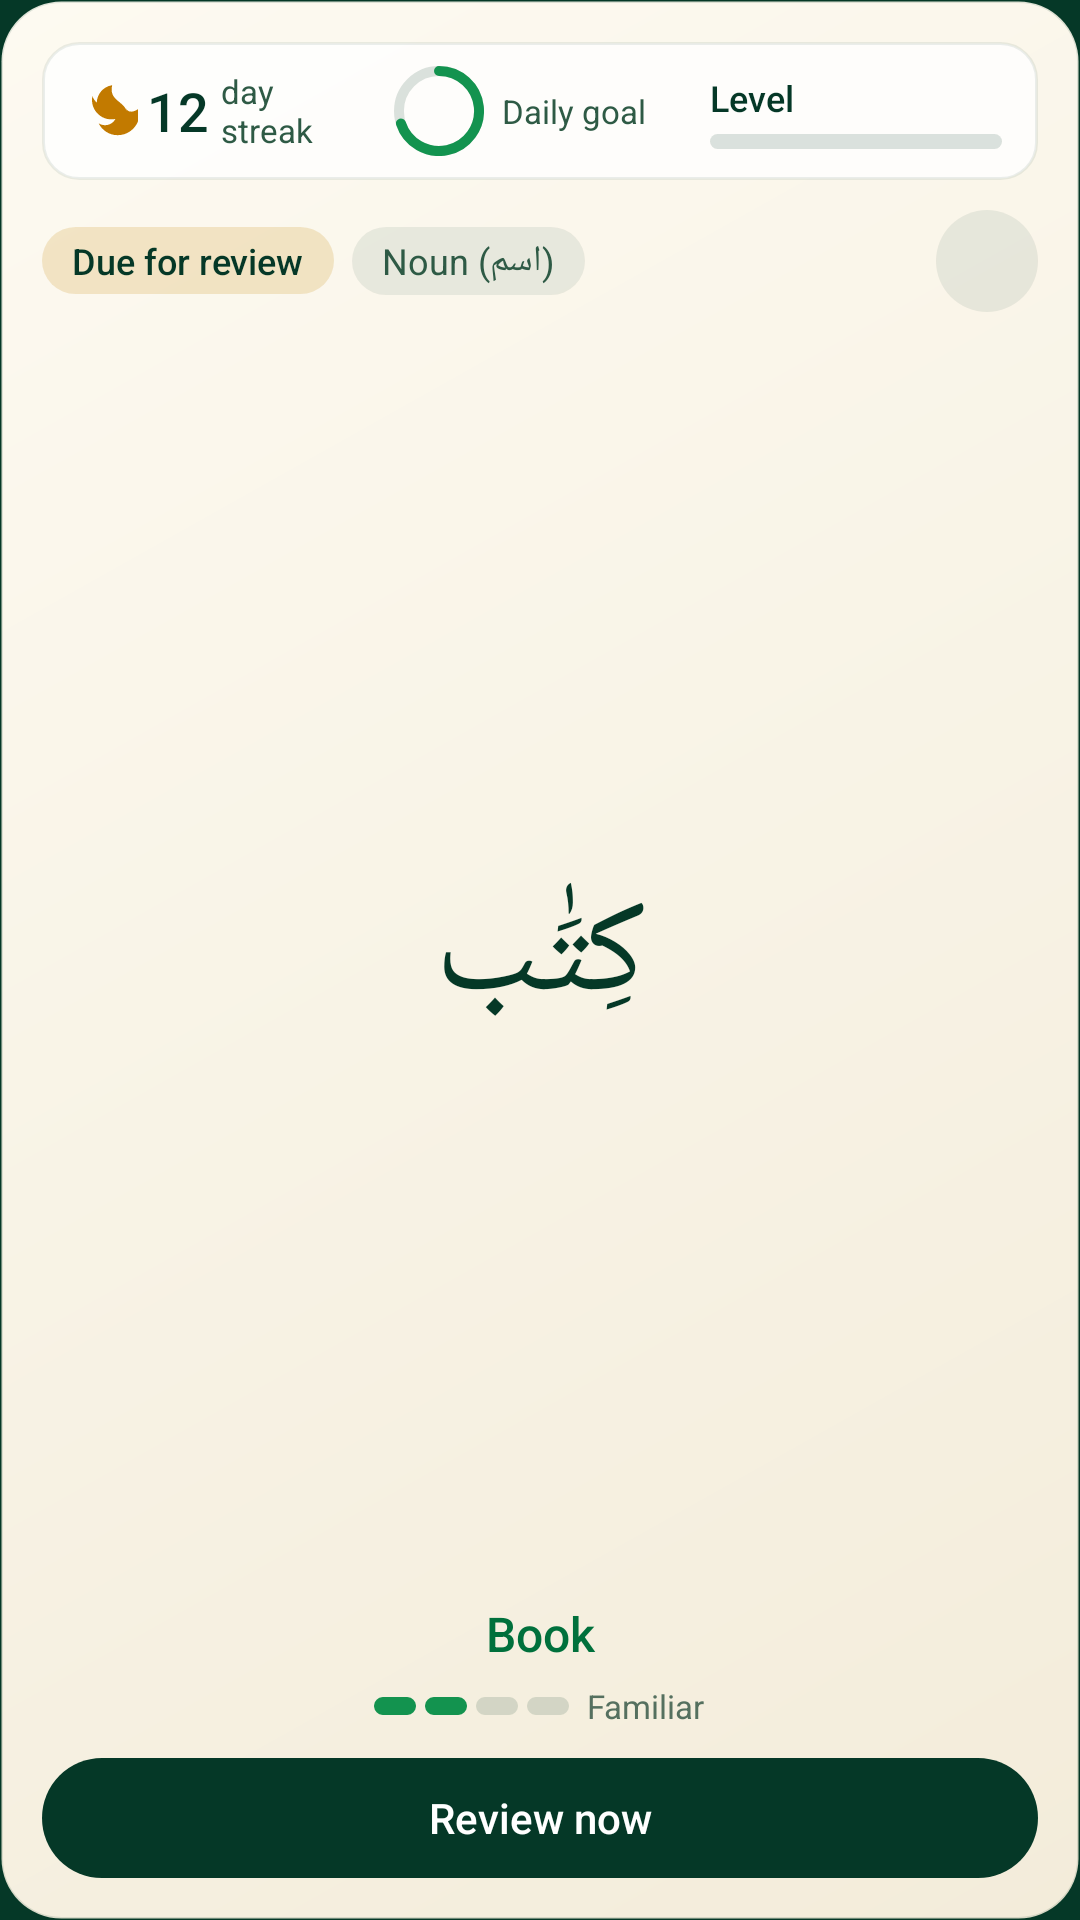

Named icons in this screenshot (1080 x 1920) and their centers, (x,y):
widget flame: (115,110)
widget ring: (439,111)
